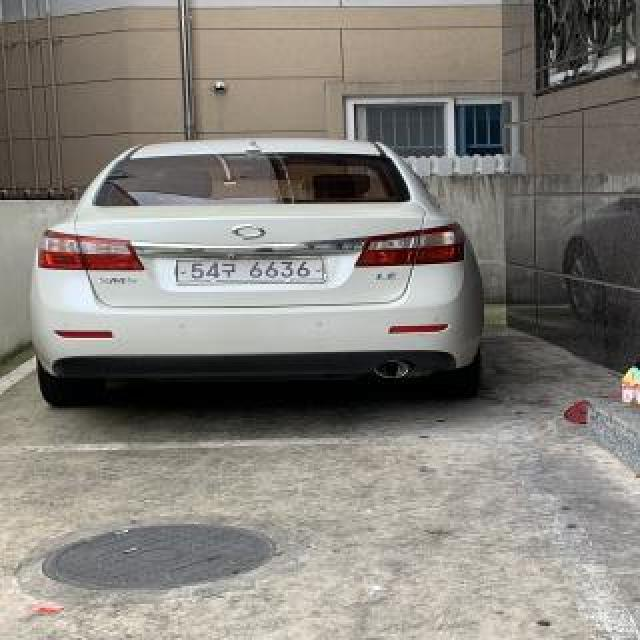car: (24, 132, 487, 411)
illegal_plate: (169, 257, 332, 288)
